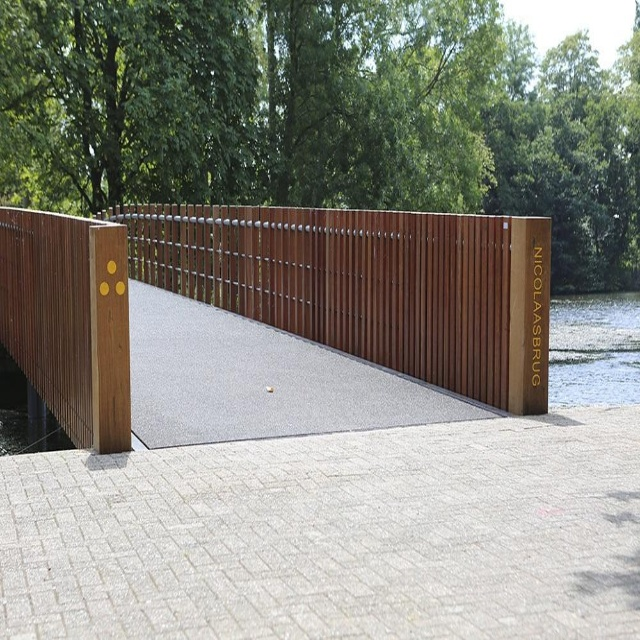obstacle: (0, 0, 640, 638)
